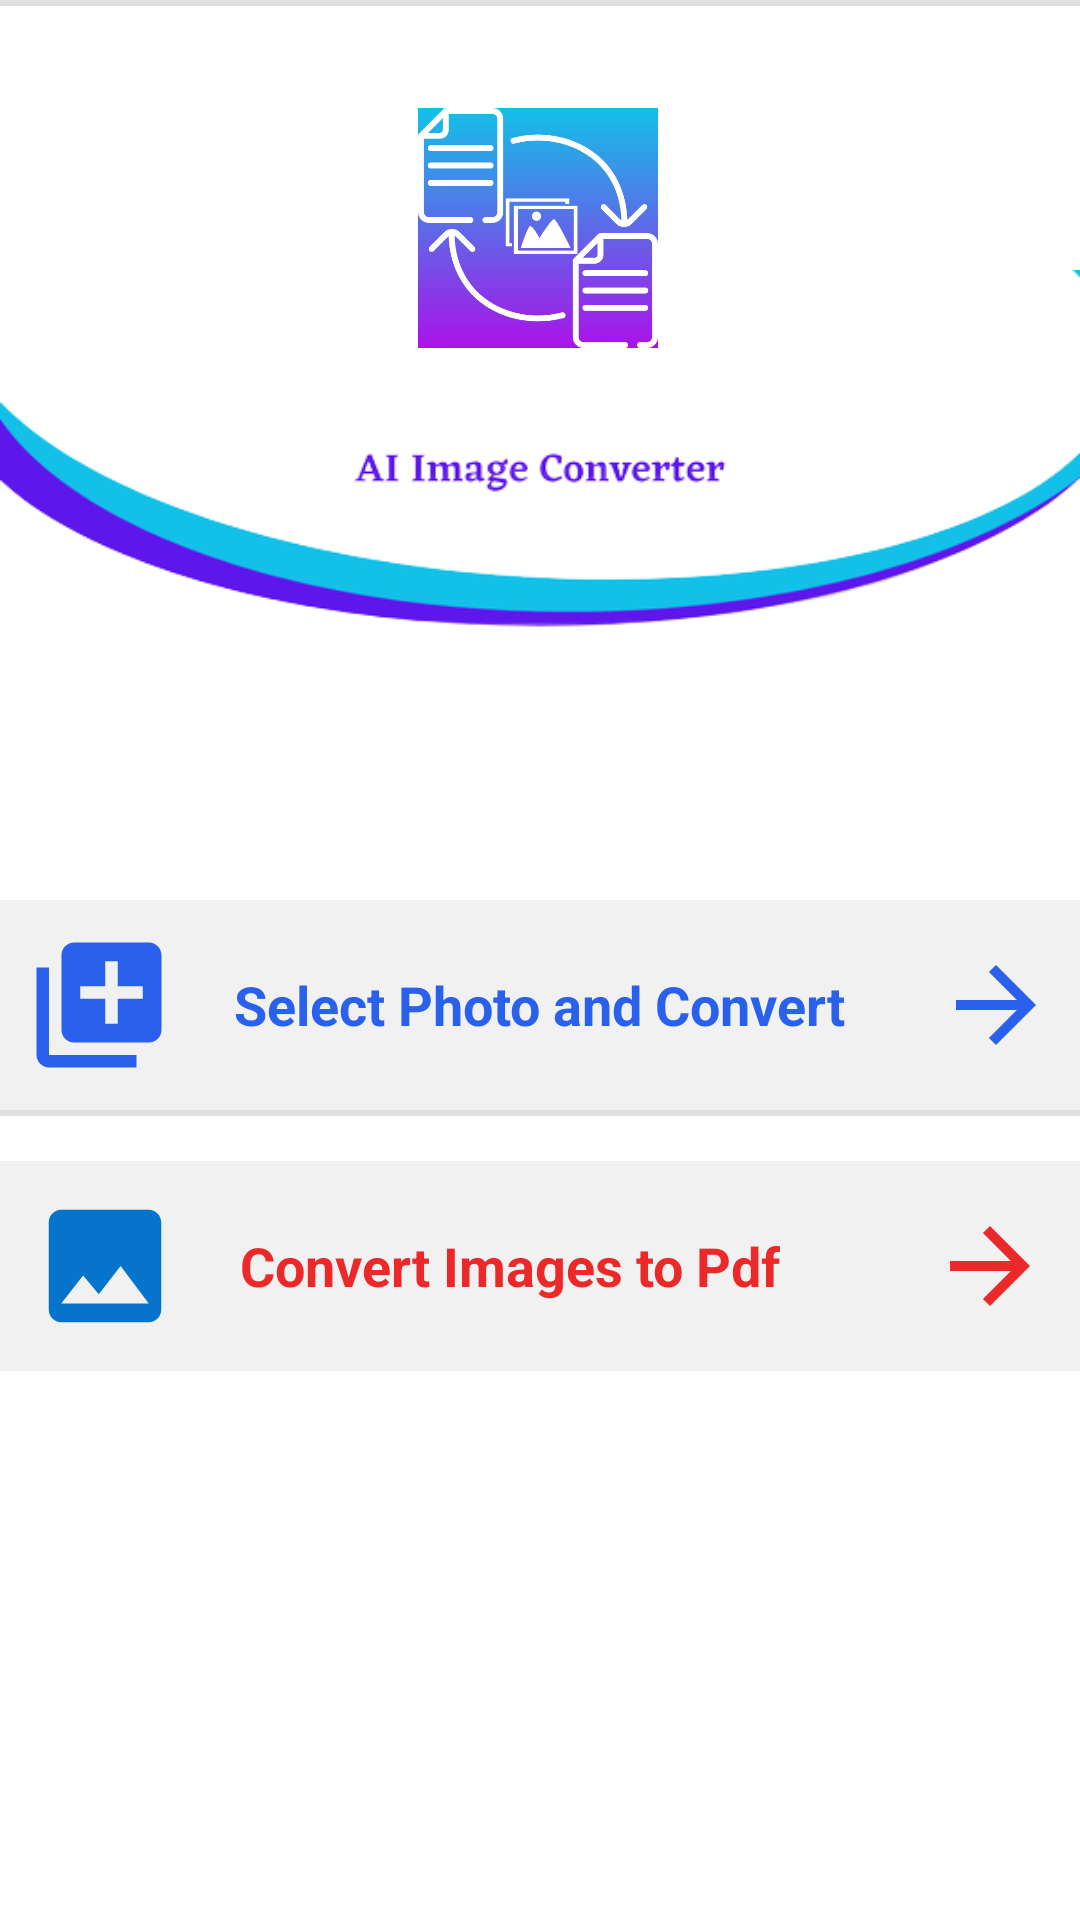

Icon bounding boxes for this 1080x1920 phone screenshot, format bbox=(x1, y1, x2, y2):
add to photos: bbox=(36, 942, 162, 1068)
arrow forward: bbox=(956, 965, 1036, 1045), bbox=(950, 1226, 1030, 1306)
